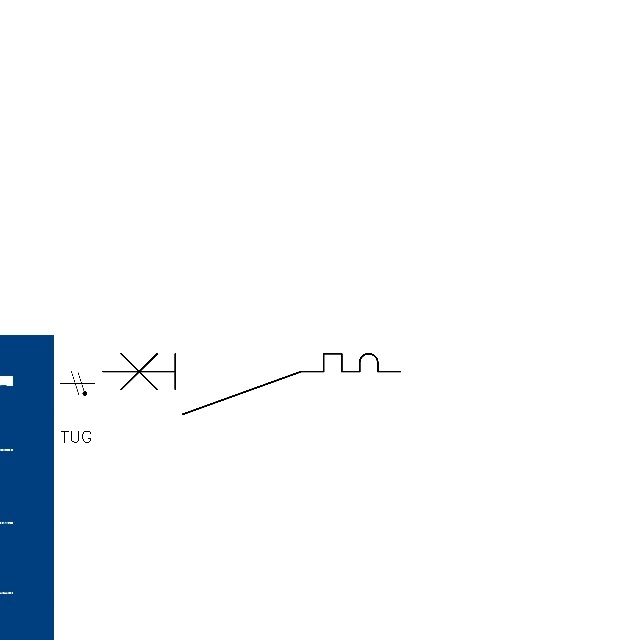interruptor_termomagnetico: (95, 346, 407, 422)
